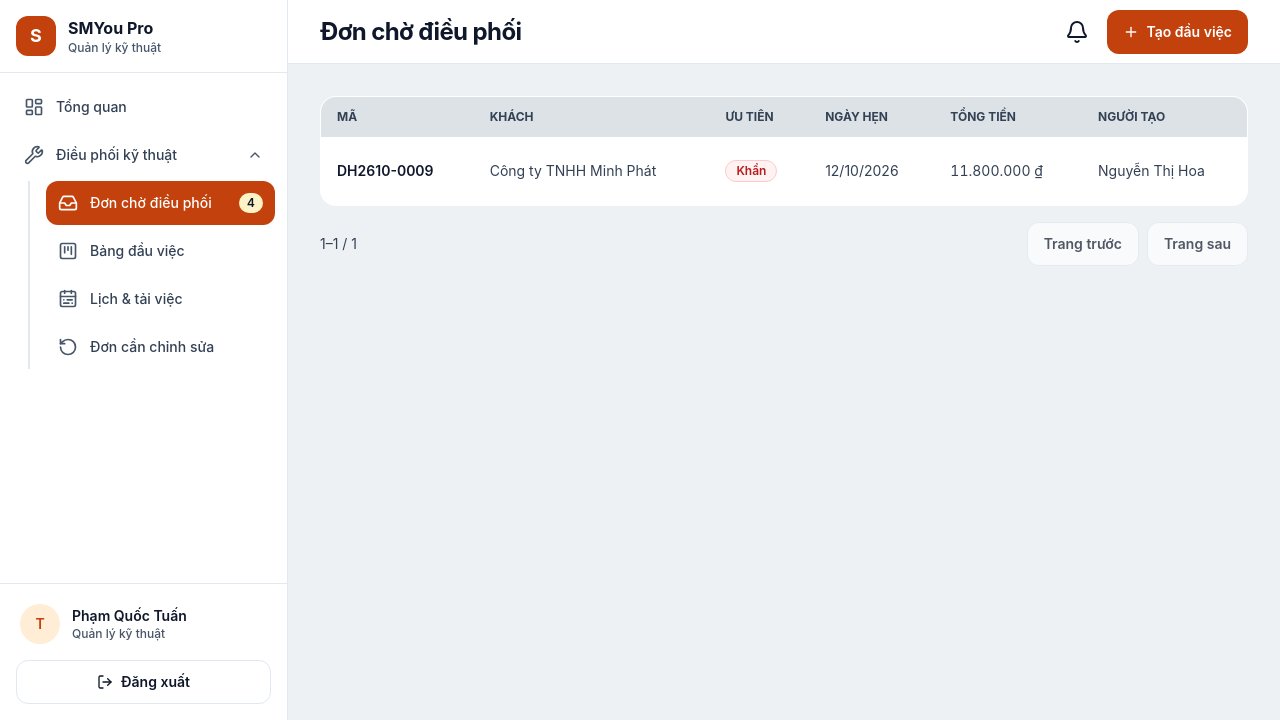
Test case: Panel tạo đầu việc › AC-DSP-026 nút dính đáy chừa safe-area, Esc đóng panel và trả focus về hàng vừa bấm
This screenshot has width=1280, height=720.
Click the button "DH2610-0009" at coordinates (385, 171), box [337, 149, 434, 193]
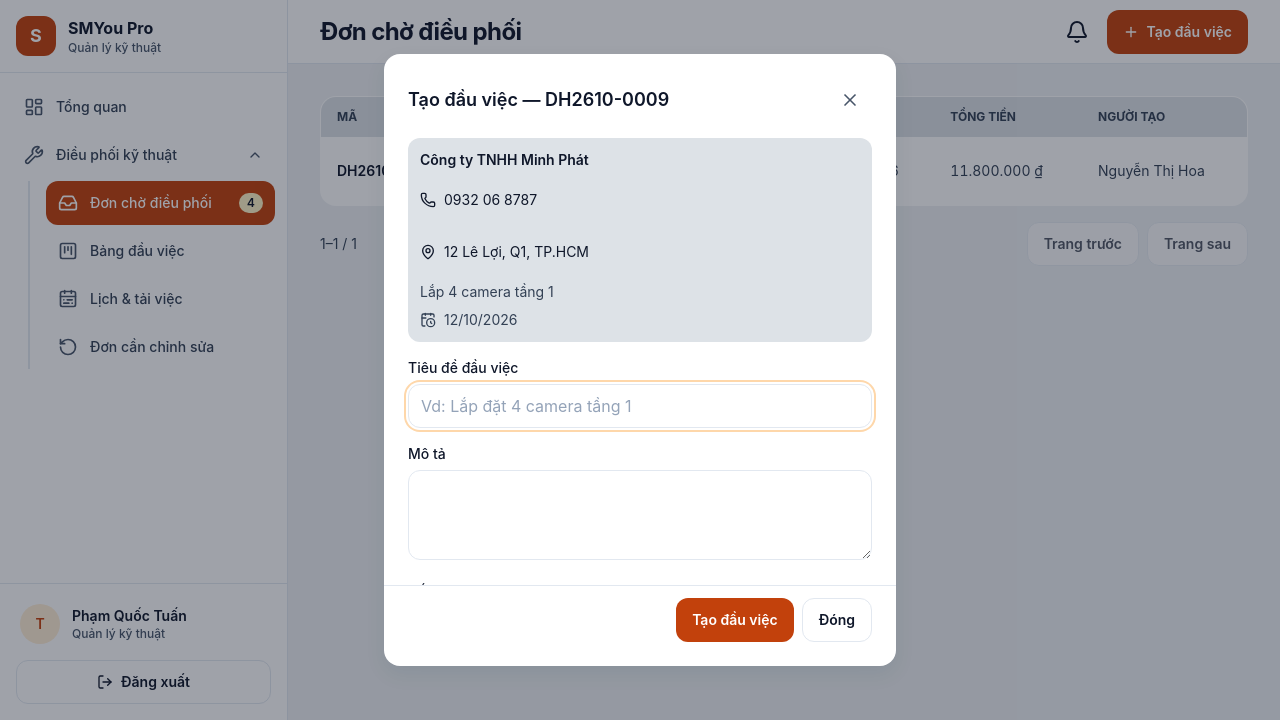
Press Escape
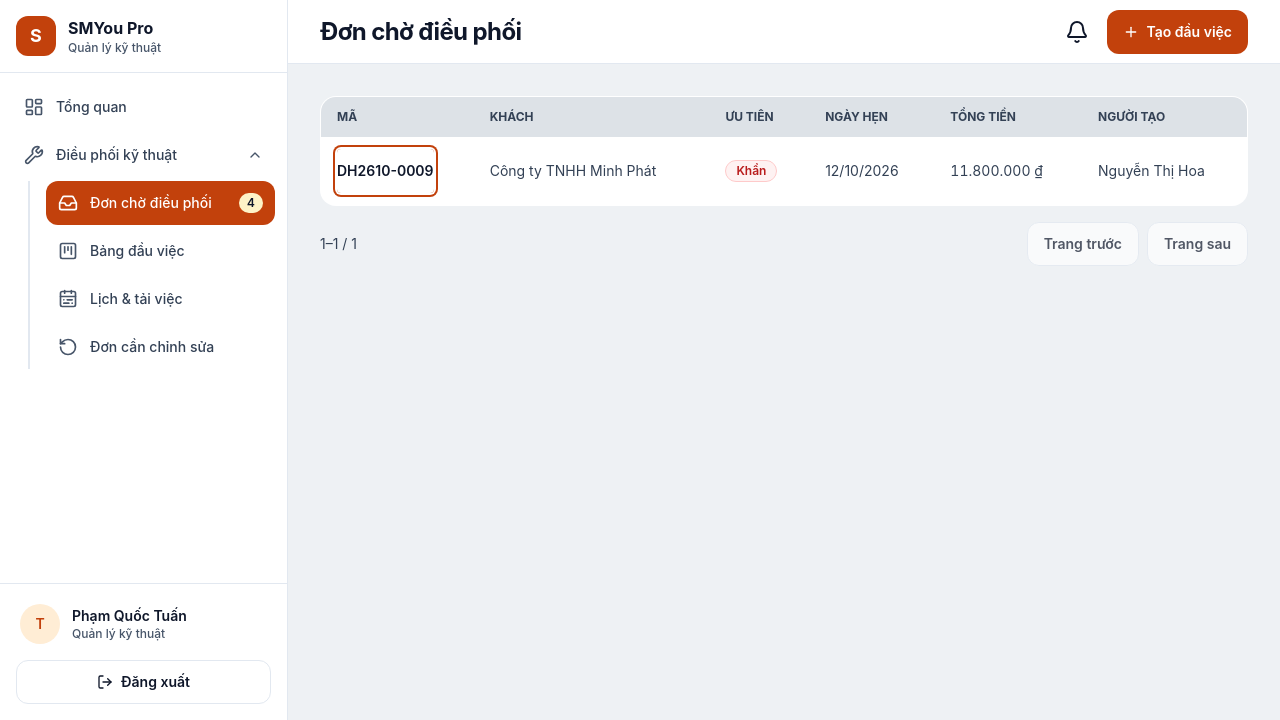
Check: the dialog is gone
